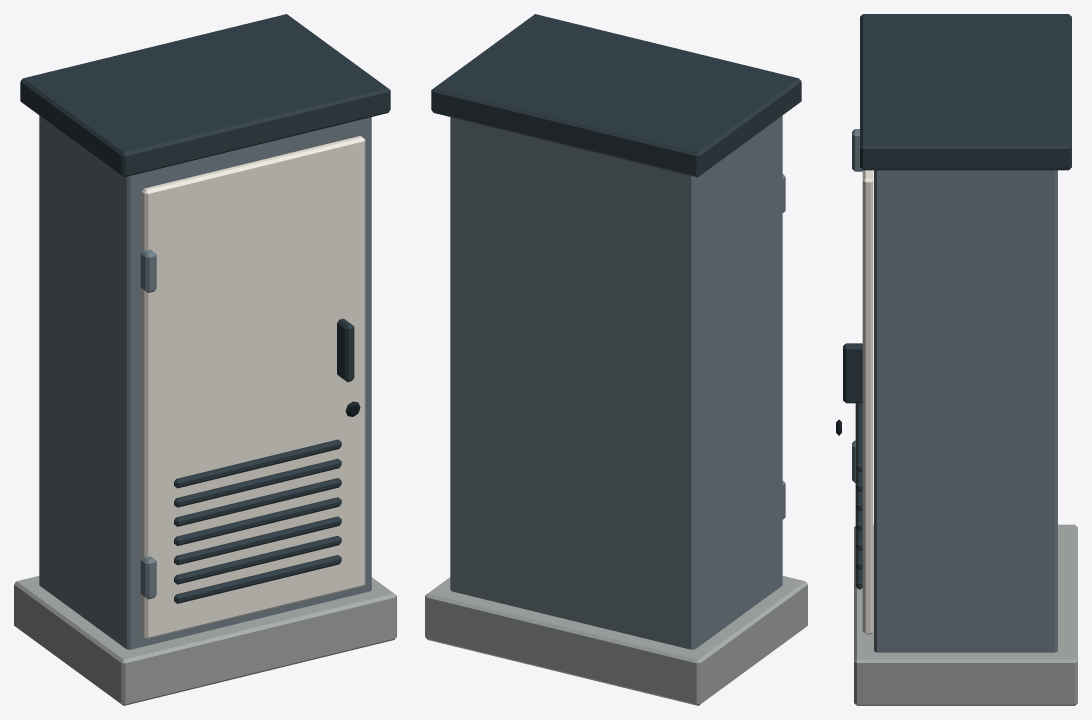
The model's file is b02_traffic_control_cabinet.glb.
The picture shows the model from 3 angles, left to right: view 1: azimuth 30°, elevation 25°; view 2: azimuth 150°, elevation 25°; view 3: azimuth 270°, elevation 25°; orthographic projection.
Parts seen in each view (by area): view 1: b02_traffic_control_cabinet; view 2: b02_traffic_control_cabinet; view 3: b02_traffic_control_cabinet.
Boxes of the visible parts, bbox=[...] form: b02_traffic_control_cabinet: bbox=[14, 14, 396, 705]; b02_traffic_control_cabinet: bbox=[425, 14, 807, 705]; b02_traffic_control_cabinet: bbox=[836, 14, 1077, 705].
Bounding box in the file's own units: 0.81 × 1.54 × 0.605.
